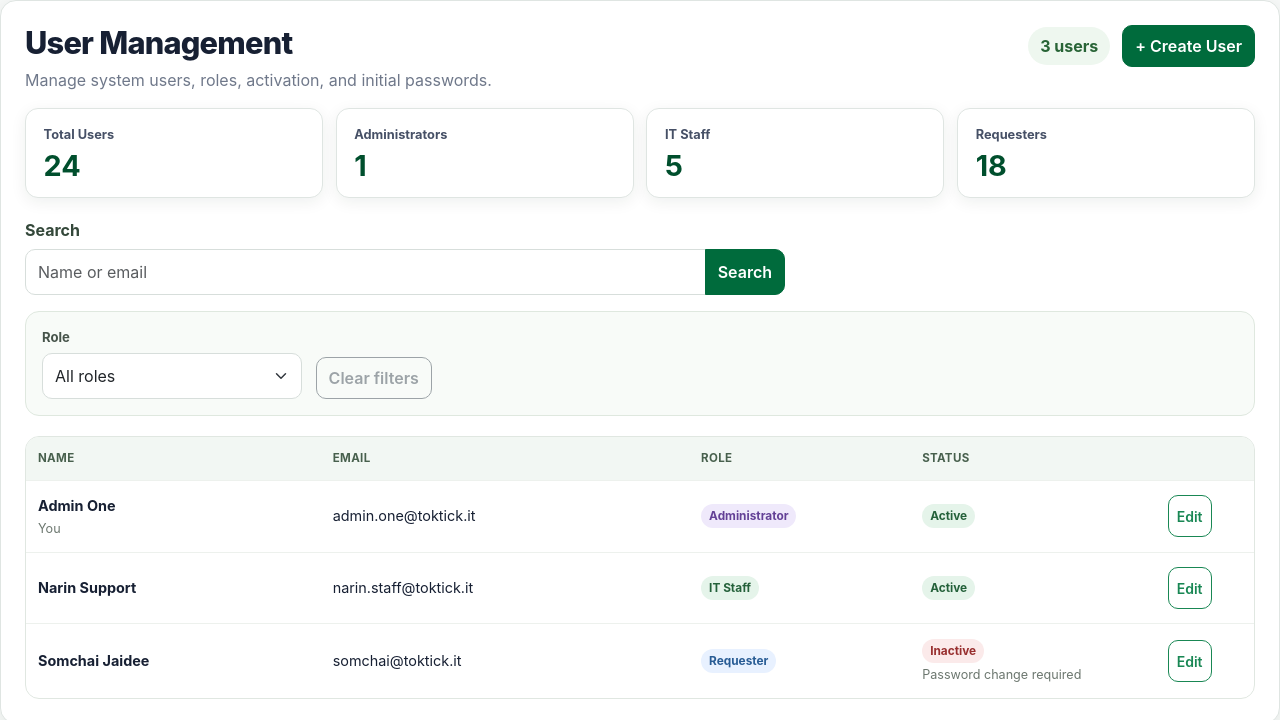
Scenario: Lab 3 Administrator User Management › UI-ADM-07: self-deactivation is blocked with clear feedback before mutation
Click the button "Edit" in the row of "Admin One". click: click(1190, 516)
box: [1168,495,1212,537]
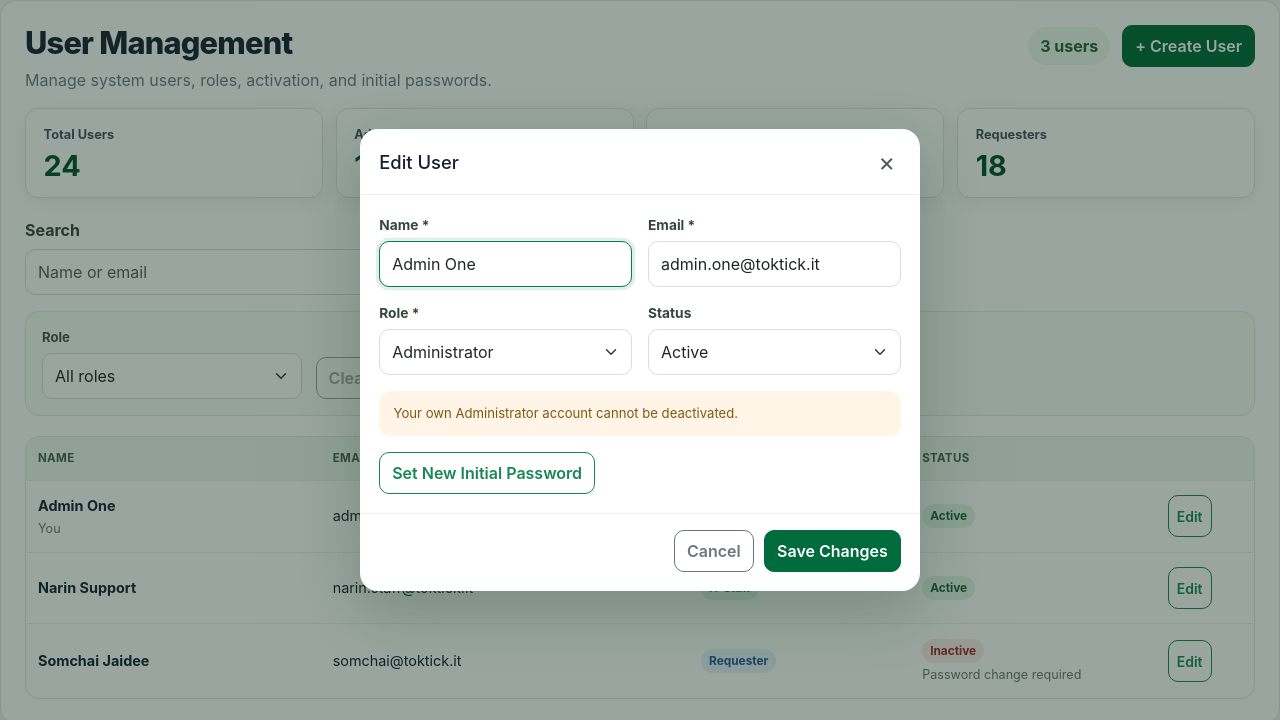
Select "Inactive" in the dropdown labelled "Status". click: (774, 352)
box: [648,329,901,375]
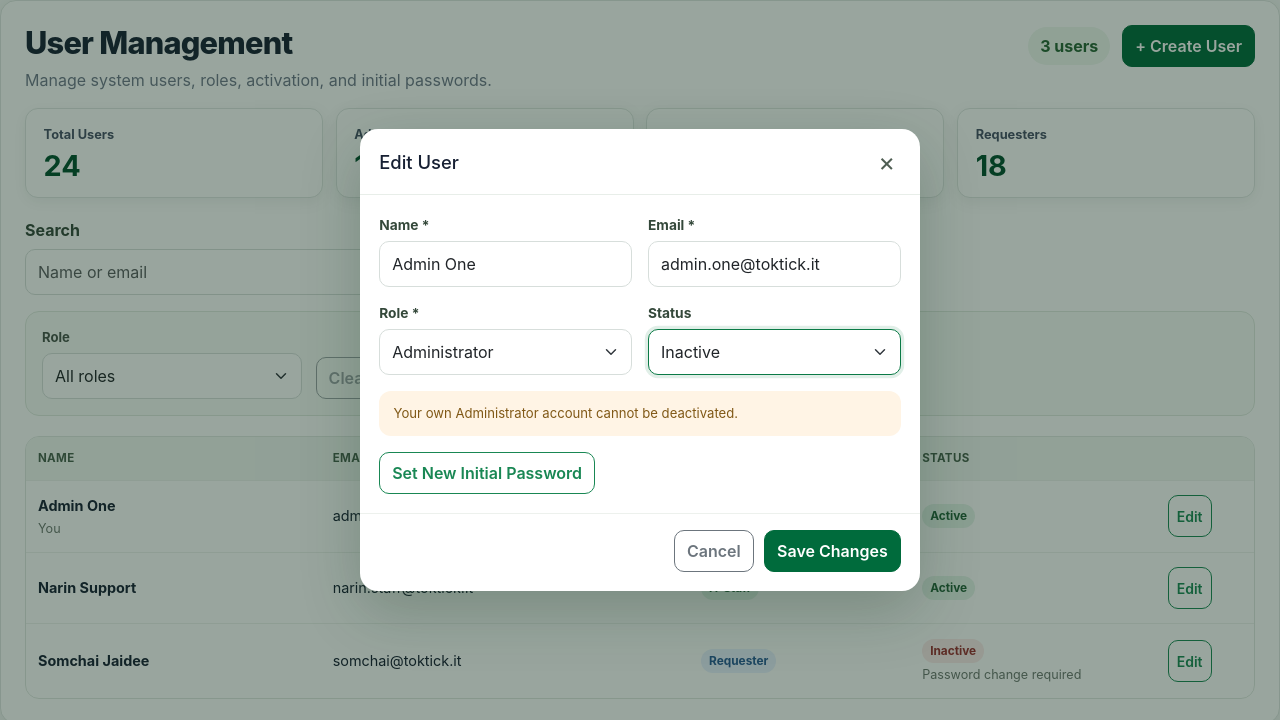
Click the button "Save Changes". click: click(832, 551)
box: [764,530,901,572]
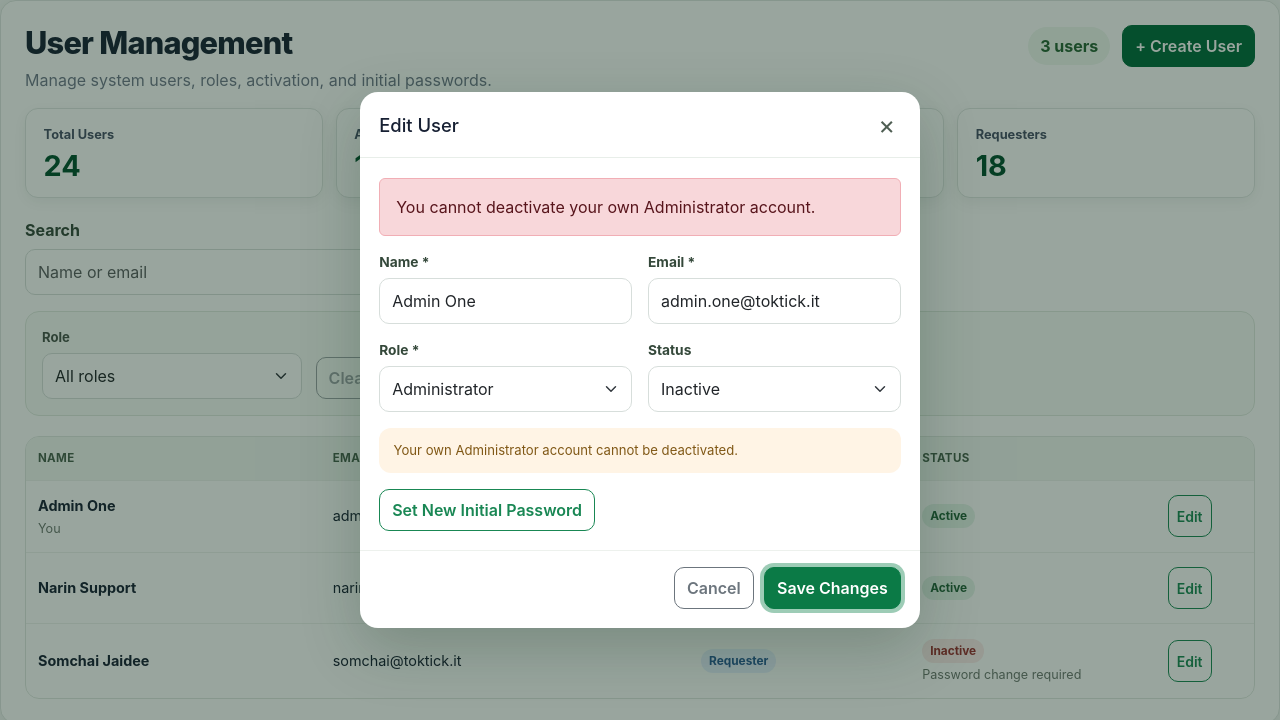
Result: the message shows "cannot deactivate your own" at [396,197,815,217]
